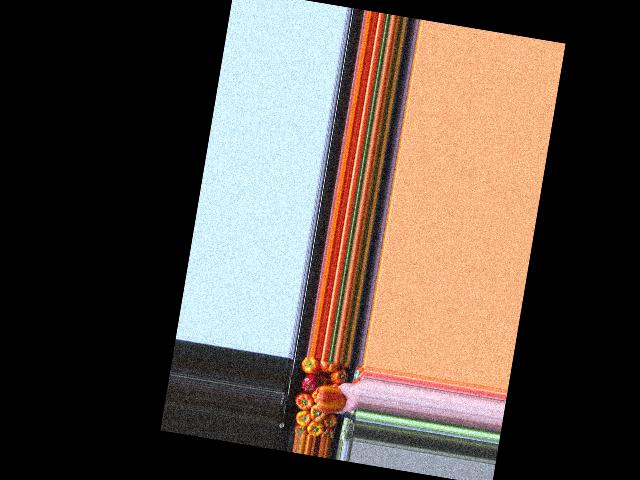bell_pepper: (328, 365, 346, 386)
